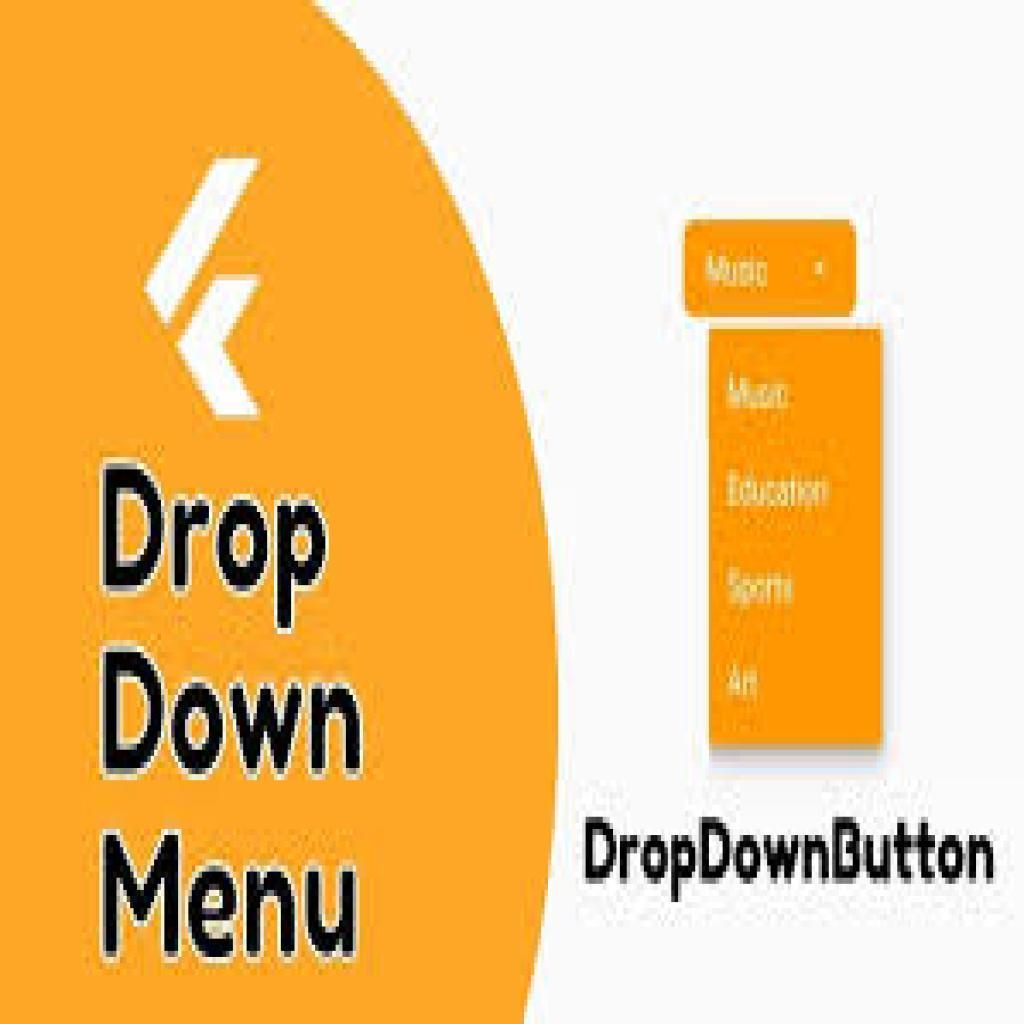dropdown: (686, 222, 857, 319)
